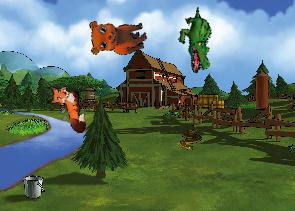bear: (84, 8, 150, 62)
crocodile: (168, 6, 226, 75)
fox: (44, 80, 88, 137)
